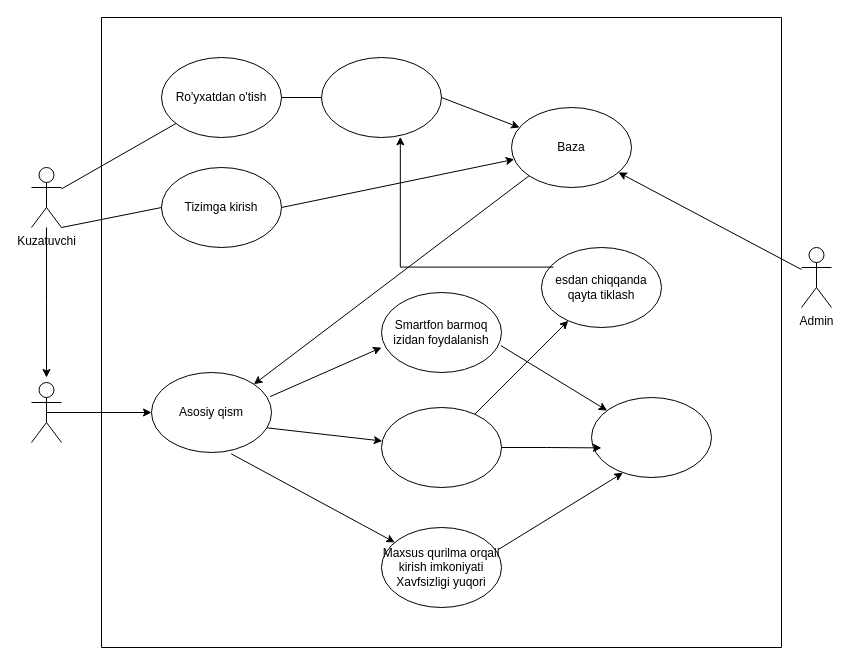
Some shapes in this 851 by 665 pixel diagram are drawn without their labels. Each missing label, with the box of its shape:
emailni tekshirish: (320, 56, 442, 138)
Mijoz: (30, 382, 62, 442)
Qo'shimcha parolni joriy etish yoki kiritish: (380, 406, 502, 488)
Ruxsat berish yoki rad etish: (590, 396, 712, 478)
